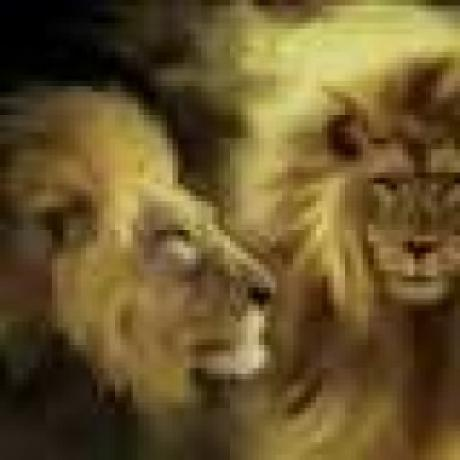Lion: (0, 84, 270, 419), (227, 2, 460, 306)
